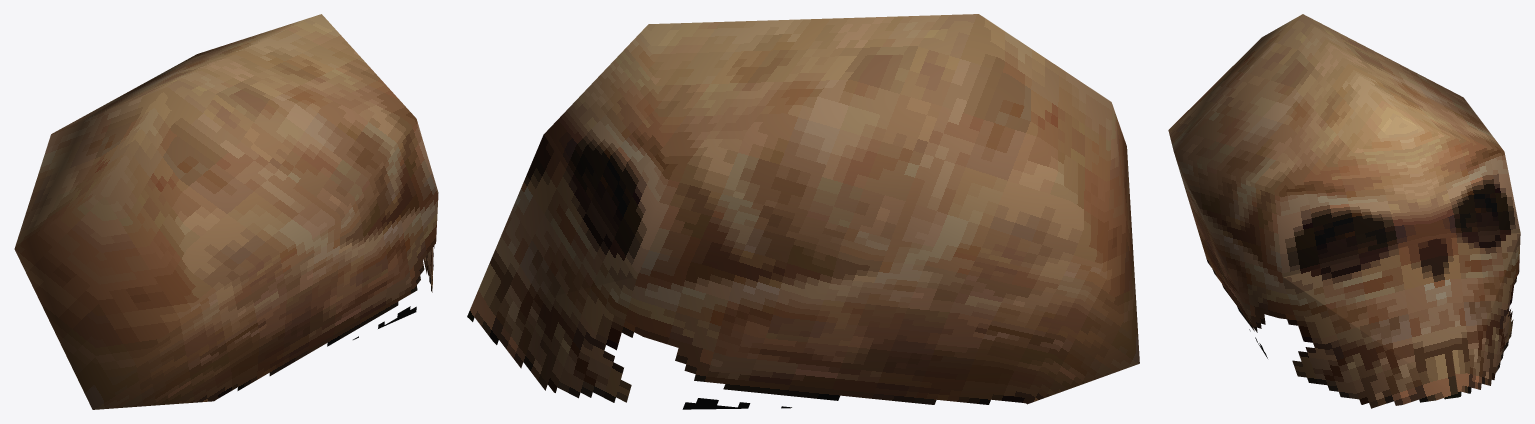
The model's file is battlegladeskullhumandark.glb.
3 renders of one model, left to right at view 1: azimuth 30°, elevation 25°; view 2: azimuth 150°, elevation 25°; view 3: azimuth 270°, elevation 25°, orthographic. The views are drawn at different scales.
Bounding box in the file's own units: 0.3668 × 0.2254 × 0.2715.
Materials: 1 (1 with a texture image).
